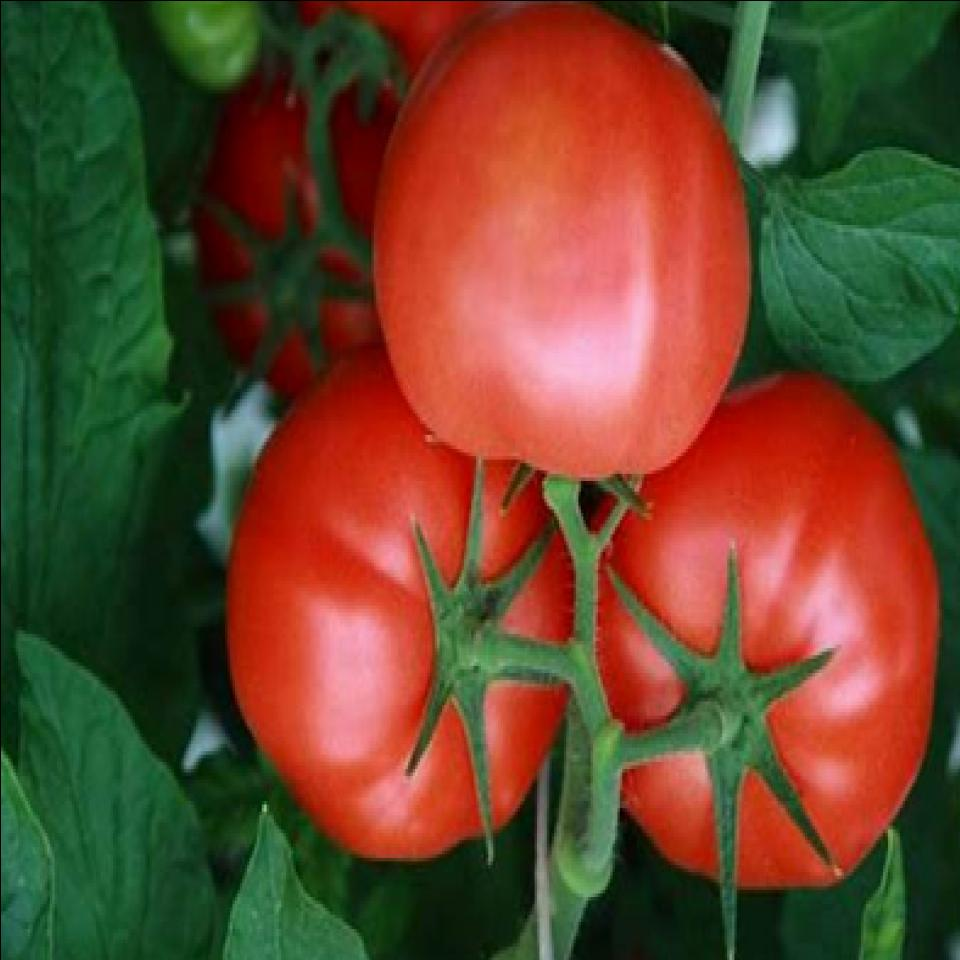Healthy: (372, 43, 756, 504), (588, 411, 942, 905), (248, 357, 554, 876), (188, 89, 396, 448)
